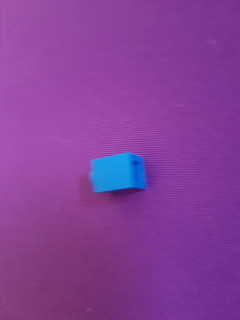1x1 blue: (86, 151, 150, 198)
